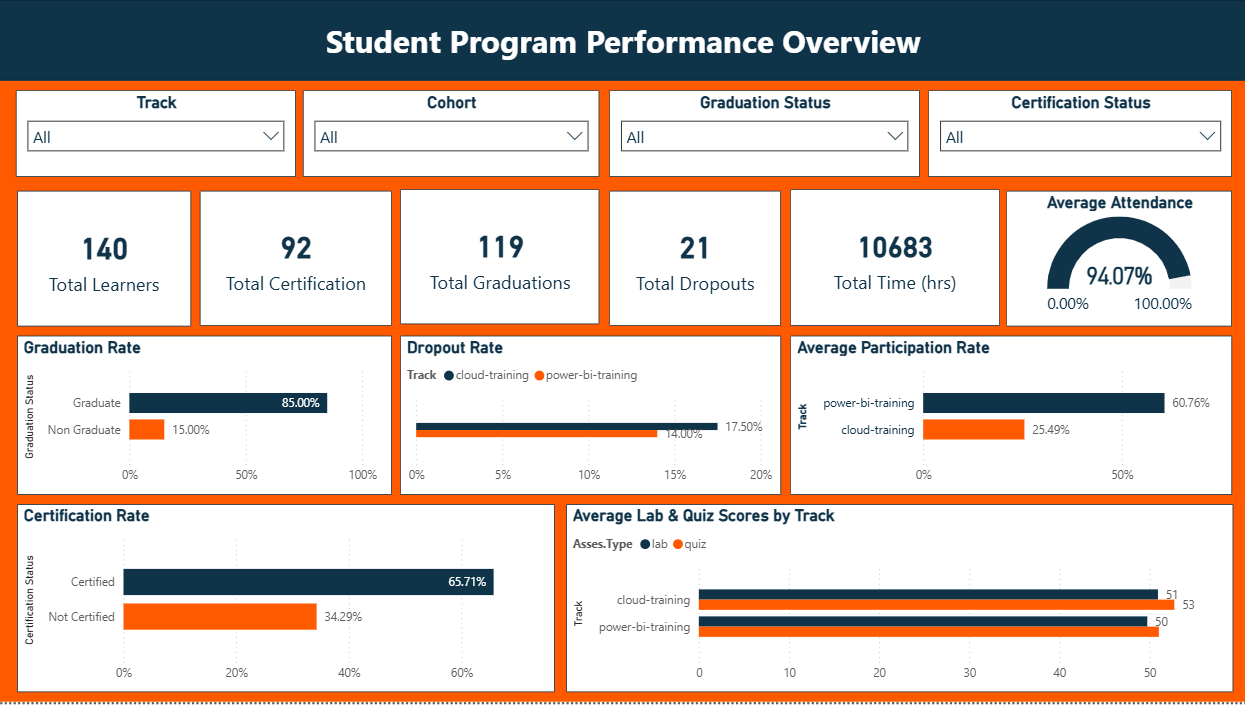

What the dashboard file says about the page in this screenshot:
{"tool":"powerbi","page":{"name":"Page 1","canvas":[1280,720],"ordinal":0},"visuals":[{"type":"slicer","title":"Track","fields":{"Values":["Learner.programme"]},"box":[19,94,286,89],"z":0},{"type":"card","fields":{"Values":["Combine-Learner-Status.Total Certification"]},"box":[206,196,197,138],"z":1000},{"type":"barChart","title":"Graduation Rate","fields":{"Category":["Combine-Learner-Status.Graduation  Status"],"Y":["CountNonNull(Combine-Learner-Status.Track)"]},"box":[18.7,344.4,393,163],"z":2000},{"type":"card","fields":{"Values":["Learner.Total Learners"]},"box":[18,195,178,139],"z":3000},{"type":"clusteredBarChart","title":"Dropout Rate","fields":{"Y":["Combine-Learner-Status.Dropout Rates"],"Series":["Combine-Learner-Status.Track"]},"box":[424,344,403,163],"z":4000},{"type":"barChart","title":"Certification Rate","fields":{"Category":["Combine-Learner-Status.Certification Status"],"Y":["CountNonNull(Combine-Learner-Status.Track)"]},"box":[17.9,517.3,552,182],"z":5000},{"type":"card","fields":{"Values":["Combine-Learner-Status.Total Graduations"]},"box":[412,196,204,138],"z":6000},{"type":"clusteredBarChart","title":"Average Lab & Quiz Scores by Track","fields":{"Y":["Combine-Learner-Assessments.Average Assessment Score"],"Category":["Learner.programme"],"Series":["Combine-Learner-Assessments.assessment-type"]},"box":[581,517,684.4,182.2],"z":7000},{"type":"clusteredBarChart","title":"Average Participation Rate","fields":{"Category":["Combine-Learner-Participation.programme"],"Y":["Combine-Learner-Participation.Average Participation Rate"]},"box":[841.1,344.4,423.3,163.3],"z":8000},{"type":"shape","box":[0,0,1280,72.2],"z":9000},{"type":"card","fields":{"Values":["Combine-Learner-Zoom-Attendance.Total Time"]},"box":[812,194,214,140],"z":10000},{"type":"textbox","box":[0,7.8,1280,54.4],"z":11000},{"type":"card","fields":{"Values":["Combine-Learner-Status.Total Dropouts"]},"box":[626,196,176,138],"z":12000},{"type":"slicer","title":"Cohort","fields":{"Values":["Learner.Cohort"]},"box":[312,94,304,89],"z":13000},{"type":"slicer","title":"Graduation Status","fields":{"Values":["Combine-Learner-Status.graduation-status"]},"box":[626,94,318,89],"z":14000},{"type":"slicer","title":"Certification Status","fields":{"Values":["Combine-Learner-Status.certification-status"]},"box":[953,94,311,89],"z":15000},{"type":"gauge","title":"Average Attendance","fields":{"Y":["Combine-Learner-Zoom-Attendance.Average Attendance"]},"box":[1033,195.1,231.1,138.9],"z":16000},{"type":"shape","box":[0,700,1280,20],"z":17000},{"type":"shape","box":[1265,72,15,628],"z":18000},{"type":"shape","box":[0,73,16,628],"z":19000},{"type":"shape","box":[0,72,1280,20],"z":20000}]}

Visuals, with their boxes in screenshot pixels (x1, y1, x2, y2), scaled from the page's 1280x720 canvas onto the 1245x705 screenshot:
"Track" slicer: x1=18, y1=92, x2=297, y2=179
card - Combine-Learner-Status.Total Certification: x1=200, y1=192, x2=392, y2=327
"Graduation Rate" barChart: x1=18, y1=337, x2=400, y2=497
card - Learner.Total Learners: x1=18, y1=191, x2=191, y2=327
"Dropout Rate" clusteredBarChart: x1=412, y1=337, x2=804, y2=496
"Certification Rate" barChart: x1=17, y1=507, x2=554, y2=685
card - Combine-Learner-Status.Total Graduations: x1=401, y1=192, x2=599, y2=327
"Average Lab & Quiz Scores by Track" clusteredBarChart: x1=565, y1=506, x2=1231, y2=685
"Average Participation Rate" clusteredBarChart: x1=818, y1=337, x2=1230, y2=497
shape: x1=0, y1=0, x2=1244, y2=71
card - Combine-Learner-Zoom-Attendance.Total Time: x1=790, y1=190, x2=998, y2=327
textbox: x1=0, y1=8, x2=1244, y2=61
card - Combine-Learner-Status.Total Dropouts: x1=609, y1=192, x2=780, y2=327
"Cohort" slicer: x1=303, y1=92, x2=599, y2=179
"Graduation Status" slicer: x1=609, y1=92, x2=918, y2=179
"Certification Status" slicer: x1=927, y1=92, x2=1229, y2=179
"Average Attendance" gauge: x1=1005, y1=191, x2=1230, y2=327
shape: x1=0, y1=685, x2=1244, y2=704
shape: x1=1230, y1=70, x2=1244, y2=685
shape: x1=0, y1=71, x2=16, y2=686
shape: x1=0, y1=70, x2=1244, y2=90
